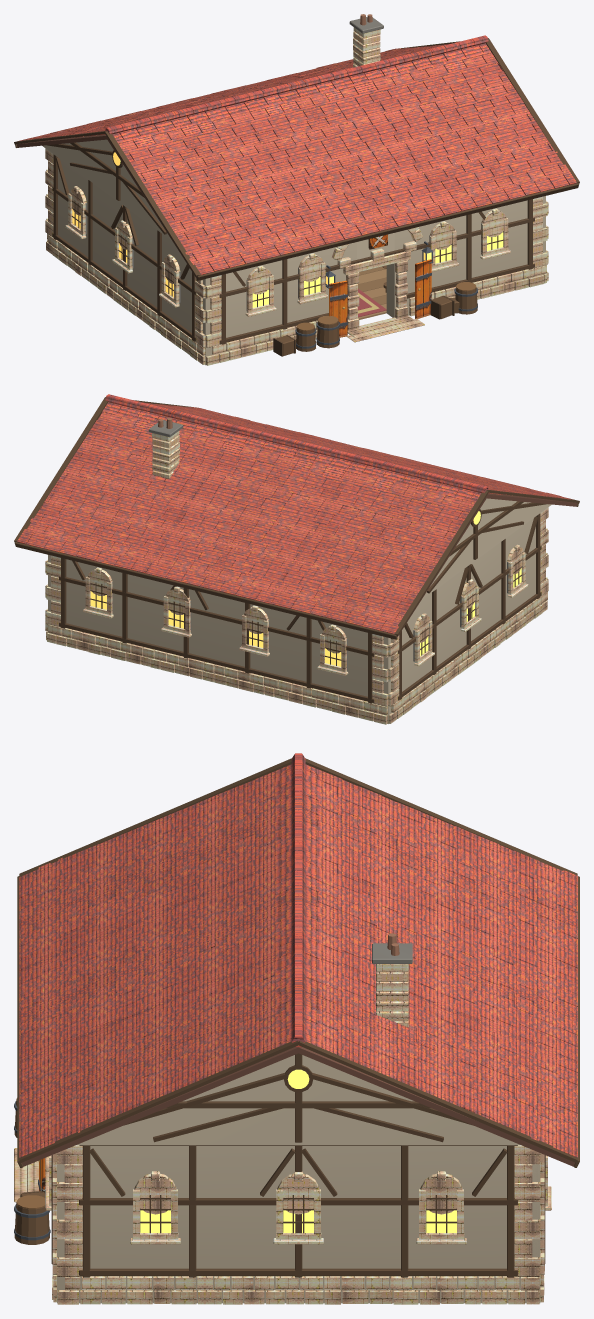
The model's file is guild-hall.glb.
3 views of the same model, one above another, from view 1: azimuth 30°, elevation 25°; view 2: azimuth 150°, elevation 25°; view 3: azimuth 270°, elevation 25° (orthographic). The views are drawn at different scales.
Visible parts, largest first — view 1: Roof_Near_HV_gh_slate_tex, Wall_CameraSide_HV_gh_stone_tex, Wall_CameraSide_HV_gh_plaster, Structure_HV_gh_plaster, Structure_HV_gh_stone_tex, Structure_HV_timber, Wall_CameraSide_HV_timber, Roof_Near_HV_timber, Roof_Ridge_HV_gh_slate_tex, Roof_Far_HV_gh_slate_tex, Wall_CameraSide_HV_oak, Wall_CameraSide_HV_gh_doorplank (+7 smaller); view 2: Roof_Far_HV_gh_slate_tex, Structure_HV_gh_plaster, Structure_HV_gh_stone_tex, Structure_HV_timber, Roof_Far_HV_timber, Roof_Near_HV_gh_slate_tex, Roof_Ridge_HV_gh_slate_tex, Structure_HV_amber_glass, Roof_Far_HV_gh_stone_tex, Roof_Near_HV_gh_roofbase, Roof_Near_HV_timber; view 3: Roof_Near_HV_gh_slate_tex, Roof_Far_HV_gh_slate_tex, Structure_HV_gh_plaster, Structure_HV_gh_stone_tex, Structure_HV_timber, Roof_Near_HV_timber, Roof_Ridge_HV_gh_slate_tex, Roof_Far_HV_timber, Structure_HV_amber_glass, Roof_Far_HV_gh_roofbase, Roof_Near_HV_gh_roofbase, Wall_CameraSide_HV_gh_stone_tex (+3 smaller).
Part boxes in pixels (<box>): Roof_Near_HV_gh_slate_tex: <box>112,43,576,275</box>; Wall_CameraSide_HV_gh_stone_tex: <box>205,196,547,365</box>; Wall_CameraSide_HV_gh_plaster: <box>226,200,527,351</box>; Structure_HV_gh_plaster: <box>42,139,545,365</box>; Structure_HV_gh_stone_tex: <box>45,148,548,364</box>; Structure_HV_timber: <box>47,142,195,341</box>; Wall_CameraSide_HV_timber: <box>219,199,534,356</box>; Roof_Near_HV_timber: <box>105,38,579,280</box>; Roof_Ridge_HV_gh_slate_tex: <box>105,35,488,134</box>; Roof_Far_HV_gh_slate_tex: <box>18,44,447,141</box>; Wall_CameraSide_HV_oak: <box>276,261,477,356</box>; Wall_CameraSide_HV_gh_doorplank: <box>329,259,431,337</box>; Roof_Far_HV_gh_slate_tex: <box>17,402,481,634</box>; Structure_HV_gh_plaster: <box>48,498,551,723</box>; Structure_HV_gh_stone_tex: <box>45,507,548,724</box>; Structure_HV_timber: <box>59,501,547,703</box>; Roof_Far_HV_timber: <box>14,397,488,639</box>; Roof_Near_HV_gh_slate_tex: <box>144,402,573,499</box>; Roof_Ridge_HV_gh_slate_tex: <box>105,394,488,493</box>; Structure_HV_amber_glass: <box>90,511,521,666</box>; Roof_Far_HV_gh_stone_tex: <box>152,431,179,478</box>; Roof_Near_HV_gh_roofbase: <box>486,493,577,506</box>; Roof_Near_HV_timber: <box>105,397,579,506</box>; Roof_Near_HV_gh_slate_tex: <box>19,764,291,1157</box>; Roof_Far_HV_gh_slate_tex: <box>305,764,577,1157</box>; Structure_HV_gh_plaster: <box>57,1055,540,1303</box>; Structure_HV_gh_stone_tex: <box>57,1145,551,1304</box>; Structure_HV_timber: <box>79,1053,545,1277</box>; Roof_Near_HV_timber: <box>17,758,298,1167</box>; Roof_Ridge_HV_gh_slate_tex: <box>291,753,305,1047</box>; Roof_Far_HV_timber: <box>298,758,579,1167</box>; Structure_HV_amber_glass: <box>140,1069,456,1232</box>; Roof_Far_HV_gh_roofbase: <box>296,1047,574,1166</box>; Roof_Near_HV_gh_roofbase: <box>22,1047,300,1166</box>; Wall_CameraSide_HV_gh_stone_tex: <box>14,1148,56,1302</box>.
Size of the model in its own units: 13.75 by 7.02 by 11.48.
Materials: 32 (4 with a texture image).
